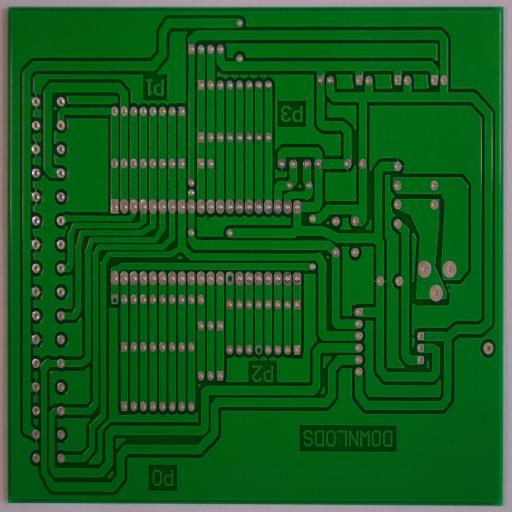missing_hole: (109, 293, 120, 305), (254, 344, 264, 356), (226, 271, 234, 285)
